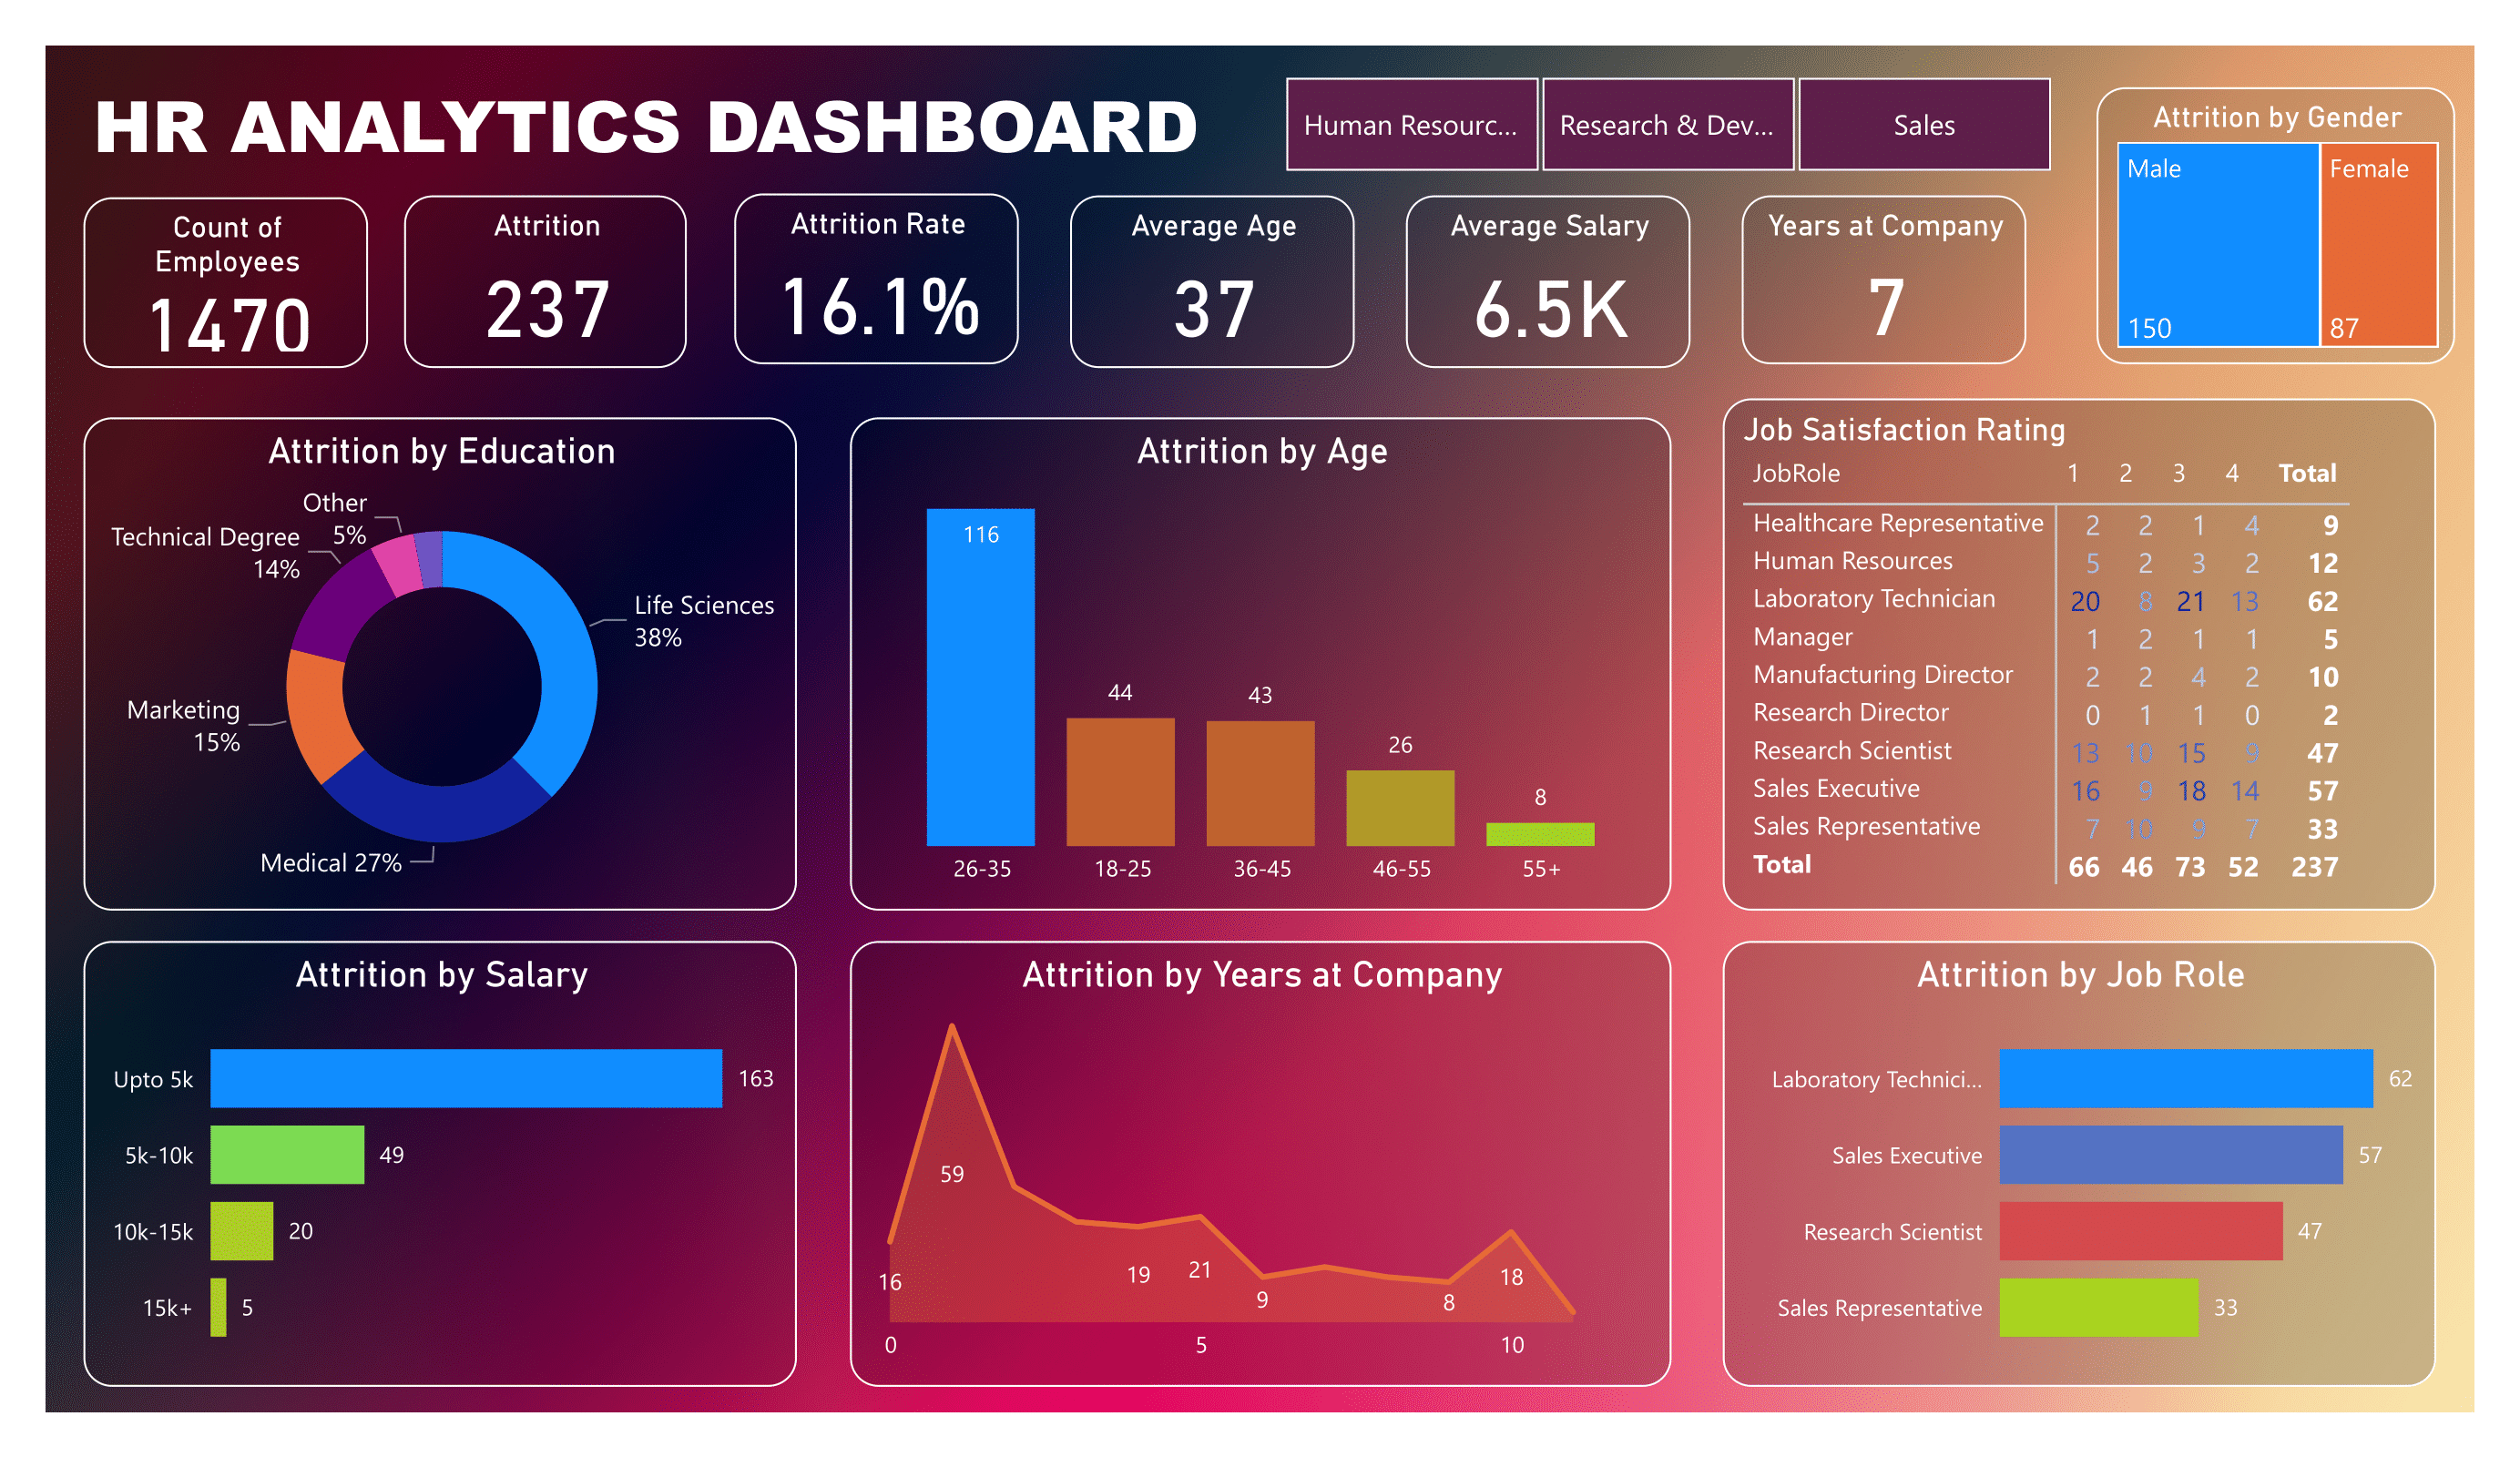

What the dashboard file says about the page in this screenshot:
{"tool":"powerbi","page":{"name":"Page 1","canvas":[1280,720],"ordinal":0},"visuals":[{"type":"card","title":"Count of Employees","fields":{"Values":["CountNonNull(Sheet1.EmpID)"]},"box":[20.2,79.8,150,90.7],"z":0},{"type":"card","title":"Attrition","fields":{"Values":["Sum(Sheet1.Attrition_Count)"]},"box":[188.6,79.3,149.8,90.7],"z":1000},{"type":"card","title":"Attrition Rate","fields":{"Values":["HR_Analytics.AttritionRate"]},"box":[362.9,77.8,149.8,90.7],"z":2000},{"type":"card","title":"Average Age","fields":{"Values":["Avg(HR_Analytics.Age)"]},"box":[540,79.2,149.8,90.7],"z":3000},{"type":"card","title":"Average Salary","fields":{"Values":["Avg(HR_Analytics.MonthlyIncome)"]},"box":[717.1,79.2,149.8,90.7],"z":4000},{"type":"card","title":"Years at Company","fields":{"Values":["Avg(HR_Analytics.YearsAtCompany)"]},"box":[894.2,79.2,149.8,89.3],"z":5000},{"type":"donutChart","title":"Attrition by Education","fields":{"Category":["HR_Analytics.EducationField"],"Y":["Sum(HR_Analytics.Attrition_Count)"]},"box":[20.2,195.8,375.8,260.6],"z":6000},{"type":"columnChart","title":"Attrition by Age","fields":{"Y":["Sum(HR_Analytics.Attrition_Count)"],"Category":["HR_Analytics.AgeGroup"]},"box":[423.9,195.8,433.4,260.6],"z":7000},{"type":"pivotTable","title":"Job Satisfaction Rating","fields":{"Rows":["HR_Analytics.JobRole"],"Columns":["HR_Analytics.JobSatisfaction"],"Values":["Sum(HR_Analytics.Attrition_Count)"]},"box":[884.2,185.8,375.8,270.7],"z":8000},{"type":"clusteredBarChart","title":"Attrition by Salary","fields":{"Category":["HR_Analytics.SalarySlab"],"Y":["Sum(HR_Analytics.Attrition_Count)"]},"box":[20.2,472.3,375.8,234.7],"z":9000},{"type":"clusteredBarChart","title":"Attrition by Job Role","fields":{"Y":["Sum(HR_Analytics.Attrition_Count)"],"Category":["HR_Analytics.JobRole"]},"box":[884.2,472.3,375.8,234.7],"z":10000},{"type":"treemap","title":"Attrition by Gender","fields":{"Group":["HR_Analytics.Gender"],"Values":["Sum(HR_Analytics.Attrition_Count)"]},"box":[1081.4,21.6,188.6,146.9],"z":11000},{"type":"stackedAreaChart","title":"Attrition by Years at Company","fields":{"Category":["HR_Analytics.YearsAtCompany"],"Y":["Sum(HR_Analytics.Attrition_Count)"]},"box":[423.9,472.2,433.4,234.7],"z":12000},{"type":"slicer","fields":{"Values":["HR_Analytics.Department"]},"box":[627.8,10.1,453.6,63.4],"z":13000},{"type":"textbox","box":[20.2,10.1,613.4,67.7],"z":14000}]}

Visuals, with their boxes in screenshot pixels (x1, y1, x2, y2):
"Count of Employees" card: [41,141,342,323]
"Attrition" card: [380,140,681,322]
"Attrition Rate" card: [730,137,1032,320]
"Average Age" card: [1087,139,1389,322]
"Average Salary" card: [1444,139,1745,322]
"Years at Company" card: [1800,139,2101,320]
"Attrition by Education" donutChart: [41,374,797,899]
"Attrition by Age" columnChart: [853,374,1726,899]
"Job Satisfaction Rating" pivotTable: [1780,354,2519,899]
"Attrition by Salary" clusteredBarChart: [41,931,797,1403]
"Attrition by Job Role" clusteredBarChart: [1780,931,2519,1403]
"Attrition by Gender" treemap: [2177,24,2519,320]
"Attrition by Years at Company" stackedAreaChart: [853,931,1726,1403]
slicer - HR_Analytics.Department: [1264,1,2177,128]
textbox: [41,1,1275,137]
